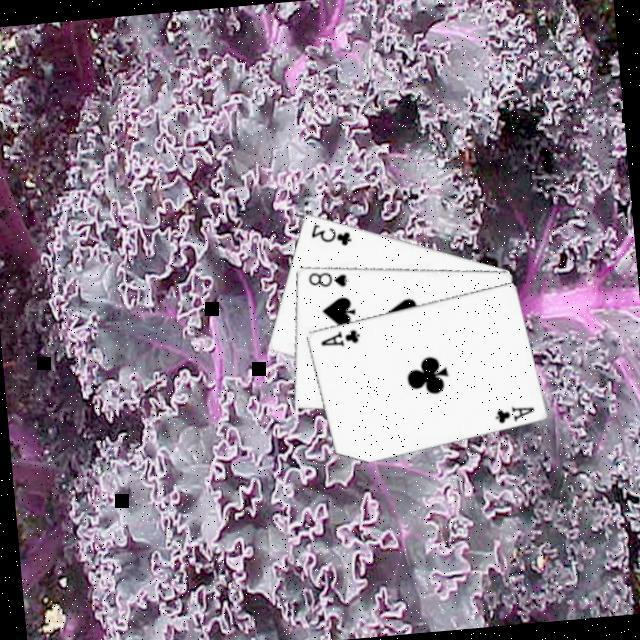3C: (308, 215, 356, 249)
8S: (306, 265, 354, 291)
AC: (491, 399, 539, 425), (318, 323, 364, 350)
